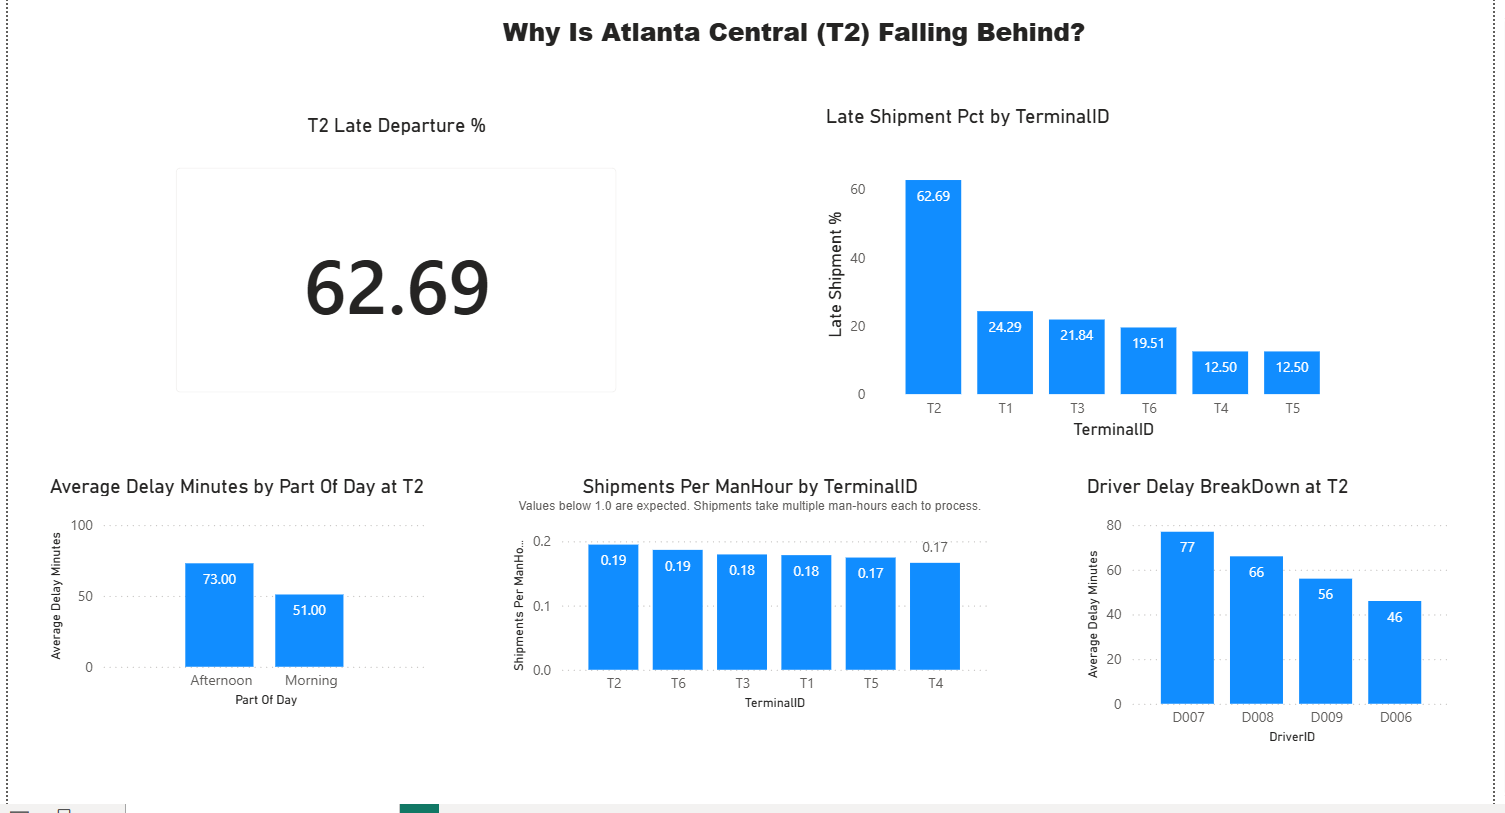

The dashboard page shown, as its layout file describes it:
{"tool":"powerbi","page":{"name":"WHy Is Atlanta Central (T2) Falling Behind?","canvas":[1280,720],"ordinal":0},"visuals":[{"type":"cardVisual","title":"T2 Late Departure %","fields":{"Data":["Max(terminal_comparison.LateShipmentPct)"]},"box":[127.6,118.1,414.7,258.6],"z":0},{"type":"clusteredColumnChart","fields":{"Category":["terminal_comparison.TerminalID"],"Y":["Sum(terminal_comparison.LateShipmentPct)"]},"box":[700,110.3,462.1,293.1],"z":1000},{"type":"clusteredColumnChart","fields":{"Category":["terminal_capacity.TerminalID"],"Y":["Sum(terminal_capacity.ShipmentsPerManHour)"]},"box":[430.2,429.3,419,207.8],"z":1001},{"type":"clusteredColumnChart","title":"Average Delay Minutes by Part Of Day at T2","fields":{"Category":["t2_time_of_day.PartOfDay"],"Y":["Avg(t2_time_of_day.AvgDelayMinutes)"]},"box":[31,429.3,336.2,205.2],"z":1002},{"type":"clusteredColumnChart","title":"Driver Delay BreakDown at T2","fields":{"Category":["t2_driver_breakdown.DriverID"],"Y":["Sum(t2_driver_breakdown.AvgDelayMinutes)"]},"box":[925,429.3,324.1,237.1],"z":1003},{"type":"textbox","box":[367.2,28.7,620.6,40.3],"z":1005}]}

Visuals, with their boxes on the page's 1280x720 design canvas (x1, y1, x2, y2). These are canvas units, not pixel positions in the 1505x813 screenshot, which may show the page scaled, cropped or inside an application window:
"T2 Late Departure %" cardVisual: detection(128, 118, 542, 377)
clusteredColumnChart - terminal_comparison.TerminalID x Sum(terminal_comparison.LateShipmentPct): detection(700, 110, 1162, 403)
clusteredColumnChart - terminal_capacity.TerminalID x Sum(terminal_capacity.ShipmentsPerManHour): detection(430, 429, 849, 637)
"Average Delay Minutes by Part Of Day at T2" clusteredColumnChart: detection(31, 429, 367, 634)
"Driver Delay BreakDown at T2" clusteredColumnChart: detection(925, 429, 1249, 666)
textbox: detection(367, 29, 988, 69)
